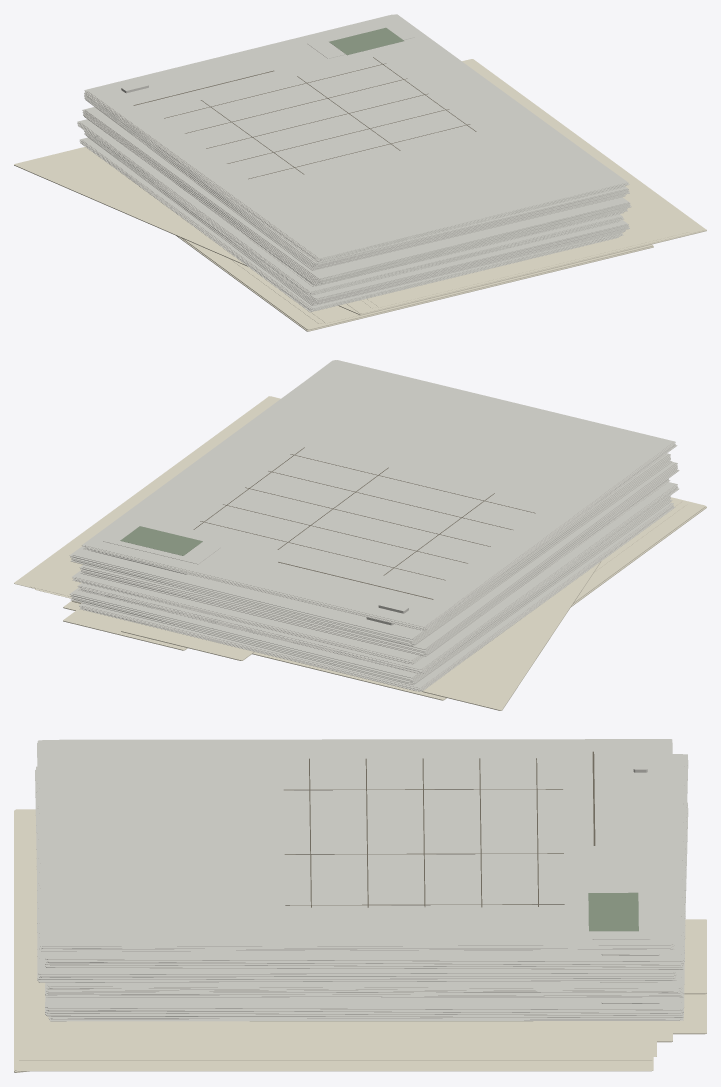
The model's file is X14_LRSGRAY_FILE_02.glb.
The picture shows the model from 3 angles, top to bottom: view 1: azimuth 30°, elevation 25°; view 2: azimuth 150°, elevation 25°; view 3: azimuth 270°, elevation 25°; orthographic projection. The views are drawn at different scales.
Visible parts, largest first — view 1: PASS6F_document_stack_8_document_stack_Body, PASS6F_document_folder_1_document_folder_Body, PASS6F_document_stack_6_document_stack_Body, PASS6F_document_stack_4_document_stack_Body, PASS6F_document_stack_3_document_stack_Body, PASS6F_document_stack_7_document_stack_Body, PASS6F_document_folder_0_document_folder_Body, PASS6F_document_stack_2_document_stack_Body, PASS6F_document_stack_8_GreenRoutingTab, PASS6F_document_stack_5_document_stack_Body; view 2: PASS6F_document_stack_8_document_stack_Body, PASS6F_document_folder_1_document_folder_Body, PASS6F_document_stack_7_document_stack_Body, PASS6F_document_stack_6_document_stack_Body, PASS6F_document_stack_4_document_stack_Body, PASS6F_document_stack_3_document_stack_Body, PASS6F_document_stack_2_document_stack_Body, PASS6F_document_folder_0_document_folder_Body, PASS6F_document_stack_5_document_stack_Body, PASS6F_document_stack_8_GreenRoutingTab; view 3: PASS6F_document_stack_8_document_stack_Body, PASS6F_document_folder_1_document_folder_Body, PASS6F_document_stack_7_document_stack_Body, PASS6F_document_stack_3_document_stack_Body, PASS6F_document_stack_6_document_stack_Body, PASS6F_document_stack_5_document_stack_Body, PASS6F_document_stack_4_document_stack_Body, PASS6F_document_stack_2_document_stack_Body, PASS6F_document_folder_0_document_folder_Body, PASS6F_document_stack_8_GreenRoutingTab.
Boxes of the visible parts, x1,y1,x2,y2 form: PASS6F_document_stack_8_document_stack_Body: (84, 14, 629, 262); PASS6F_document_folder_1_document_folder_Body: (14, 59, 706, 315); PASS6F_document_stack_6_document_stack_Body: (82, 107, 631, 285); PASS6F_document_stack_4_document_stack_Body: (77, 119, 623, 296); PASS6F_document_stack_3_document_stack_Body: (84, 131, 629, 305); PASS6F_document_stack_7_document_stack_Body: (84, 93, 629, 270); PASS6F_document_folder_0_document_folder_Body: (176, 235, 653, 331); PASS6F_document_stack_2_document_stack_Body: (79, 137, 623, 312); PASS6F_document_stack_8_GreenRoutingTab: (329, 27, 403, 55); PASS6F_document_stack_5_document_stack_Body: (179, 186, 627, 286); PASS6F_document_stack_8_document_stack_Body: (82, 360, 677, 630); PASS6F_document_folder_1_document_folder_Body: (14, 396, 601, 710); PASS6F_document_stack_7_document_stack_Body: (69, 453, 672, 646); PASS6F_document_stack_6_document_stack_Body: (79, 462, 679, 656); PASS6F_document_stack_4_document_stack_Body: (77, 482, 679, 673); PASS6F_document_stack_3_document_stack_Body: (69, 496, 672, 684); PASS6F_document_stack_2_document_stack_Body: (78, 502, 675, 691); PASS6F_document_folder_0_document_folder_Body: (63, 497, 706, 700); PASS6F_document_stack_5_document_stack_Body: (72, 479, 670, 664); PASS6F_document_stack_8_GreenRoutingTab: (120, 526, 202, 555); PASS6F_document_stack_8_document_stack_Body: (37, 739, 674, 951); PASS6F_document_folder_1_document_folder_Body: (14, 838, 706, 1072); PASS6F_document_stack_7_document_stack_Body: (45, 754, 688, 969); PASS6F_document_stack_3_document_stack_Body: (45, 802, 688, 1017); PASS6F_document_stack_6_document_stack_Body: (35, 766, 676, 982); PASS6F_document_stack_5_document_stack_Body: (46, 969, 682, 992); PASS6F_document_stack_4_document_stack_Body: (45, 936, 684, 997); PASS6F_document_stack_2_document_stack_Body: (48, 1013, 683, 1021); PASS6F_document_folder_0_document_folder_Body: (14, 809, 706, 1042); PASS6F_document_stack_8_GreenRoutingTab: (588, 892, 638, 931).
Bounding box in the file's own units: 0.3145 × 0.0423 × 0.305.
